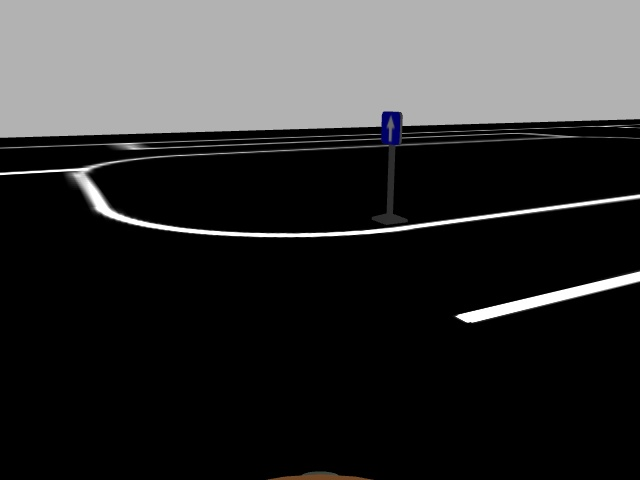oneway: (379, 108, 404, 147)
